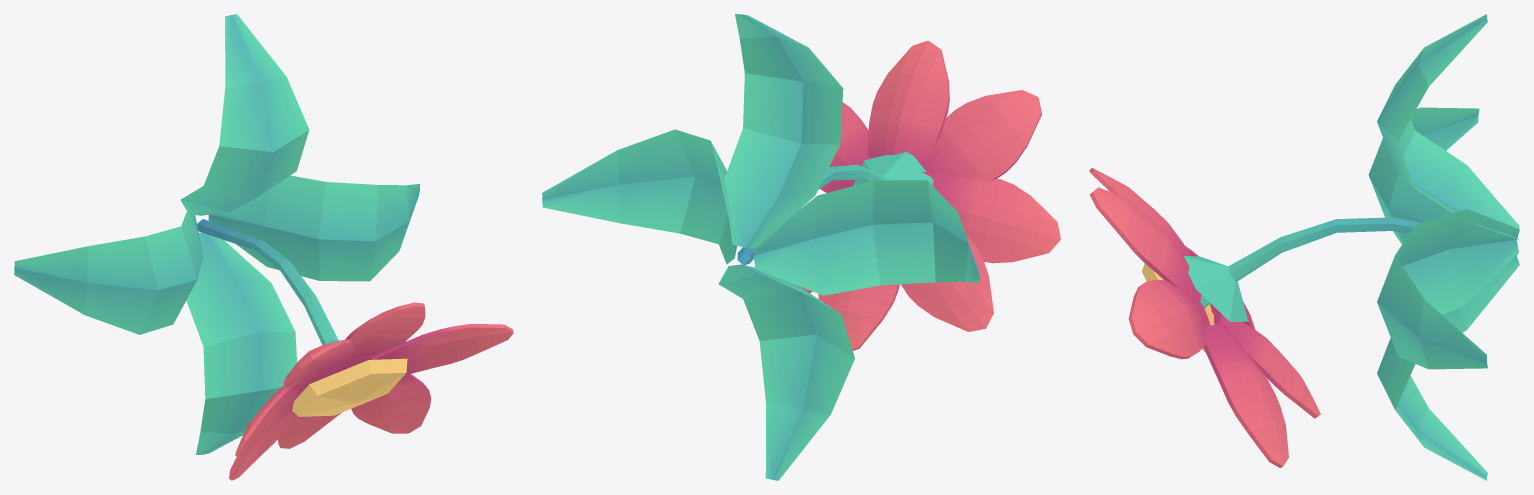
The model's file is flower1.glb.
3 renders of one model, left to right at view 1: azimuth 30°, elevation 25°; view 2: azimuth 150°, elevation 25°; view 3: azimuth 270°, elevation 25°, orthographic. The views are drawn at different scales.
Visible parts, largest first — view 1: flower.001_15; view 2: flower.001_15; view 3: flower.001_15.
Part boxes in pixels (x1,y1,x2,y2): flower.001_15: [14, 14, 513, 480]; flower.001_15: [542, 14, 1060, 480]; flower.001_15: [1089, 14, 1519, 480].
Bounding box in the file's own units: 2.12 × 2.15 × 1.76.
Materials: 1 (1 with a texture image).
